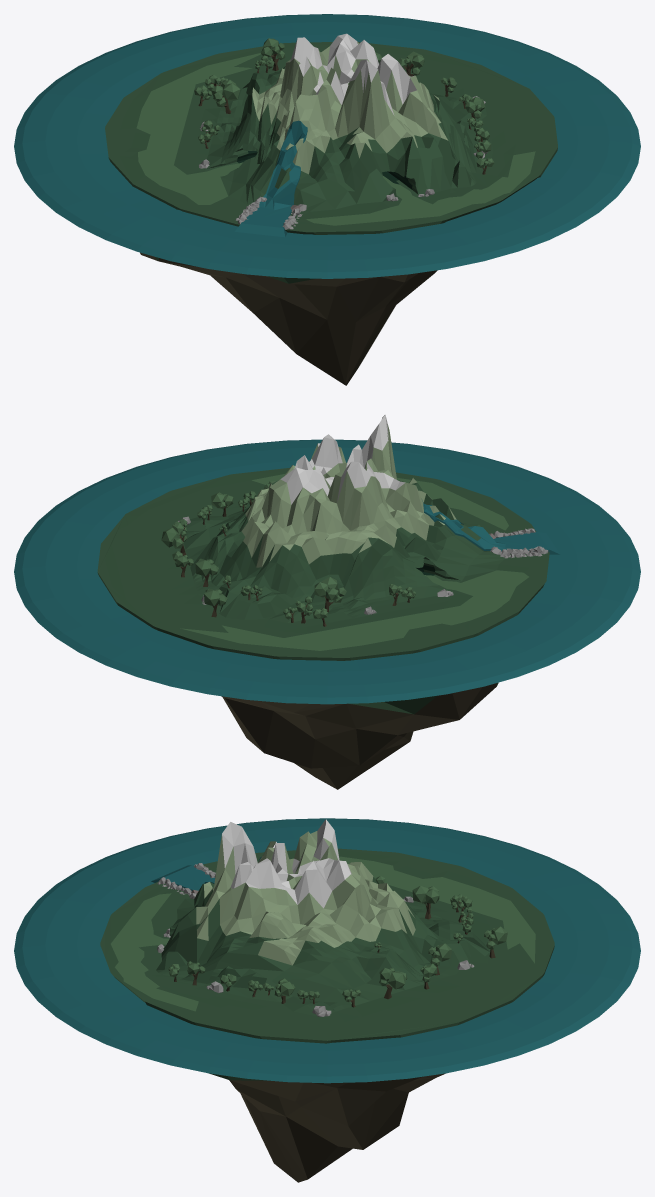
File: landscape.glb
3 renders of one model, top to bottom at view 1: azimuth 30°, elevation 25°; view 2: azimuth 150°, elevation 25°; view 3: azimuth 270°, elevation 25°, orthographic.
Visible parts, largest first — view 1: water, terrain-grass, terrain-underground, terrain-under_cliff, terrain-road, terrain-cliff, leaf, waterfall, stone, tree-base; view 2: water, terrain-grass, terrain-under_cliff, terrain-underground, terrain-road, terrain-cliff, leaf, waterfall, stone, tree-base; view 3: water, terrain-grass, terrain-under_cliff, terrain-underground, terrain-road, terrain-cliff, leaf, stone, waterfall, tree-base.
Boxes of the visible parts, x1,y1,x2,y2 form: water: (14, 14, 640, 278); terrain-grass: (105, 42, 557, 283); terrain-underground: (140, 252, 437, 385); terrain-under_cliff: (252, 41, 448, 174); terrain-road: (136, 53, 535, 225); terrain-cliff: (290, 33, 416, 115); leaf: (194, 38, 494, 167); waterfall: (235, 120, 307, 237); stone: (199, 96, 487, 229); tree-base: (198, 49, 486, 174); water: (14, 439, 640, 704); terrain-grass: (97, 468, 549, 714); terrain-under_cliff: (241, 424, 456, 567); terrain-underground: (221, 683, 496, 789); terrain-road: (180, 474, 528, 650); terrain-cliff: (280, 414, 405, 504); leaf: (161, 481, 415, 619); waterfall: (422, 500, 559, 554); stone: (178, 516, 548, 614); tree-base: (179, 500, 410, 626); water: (14, 818, 640, 1083); terrain-grass: (100, 848, 554, 1080); terrain-under_cliff: (196, 831, 415, 965); terrain-underground: (229, 1073, 445, 1182); terrain-road: (111, 856, 535, 1011); terrain-cliff: (222, 819, 351, 908); leaf: (168, 876, 507, 1002); stone: (157, 863, 474, 1016); waterfall: (151, 857, 261, 891); tree-base: (174, 901, 495, 1007).
Size of the model in its own units: 275 by 171 by 275.
